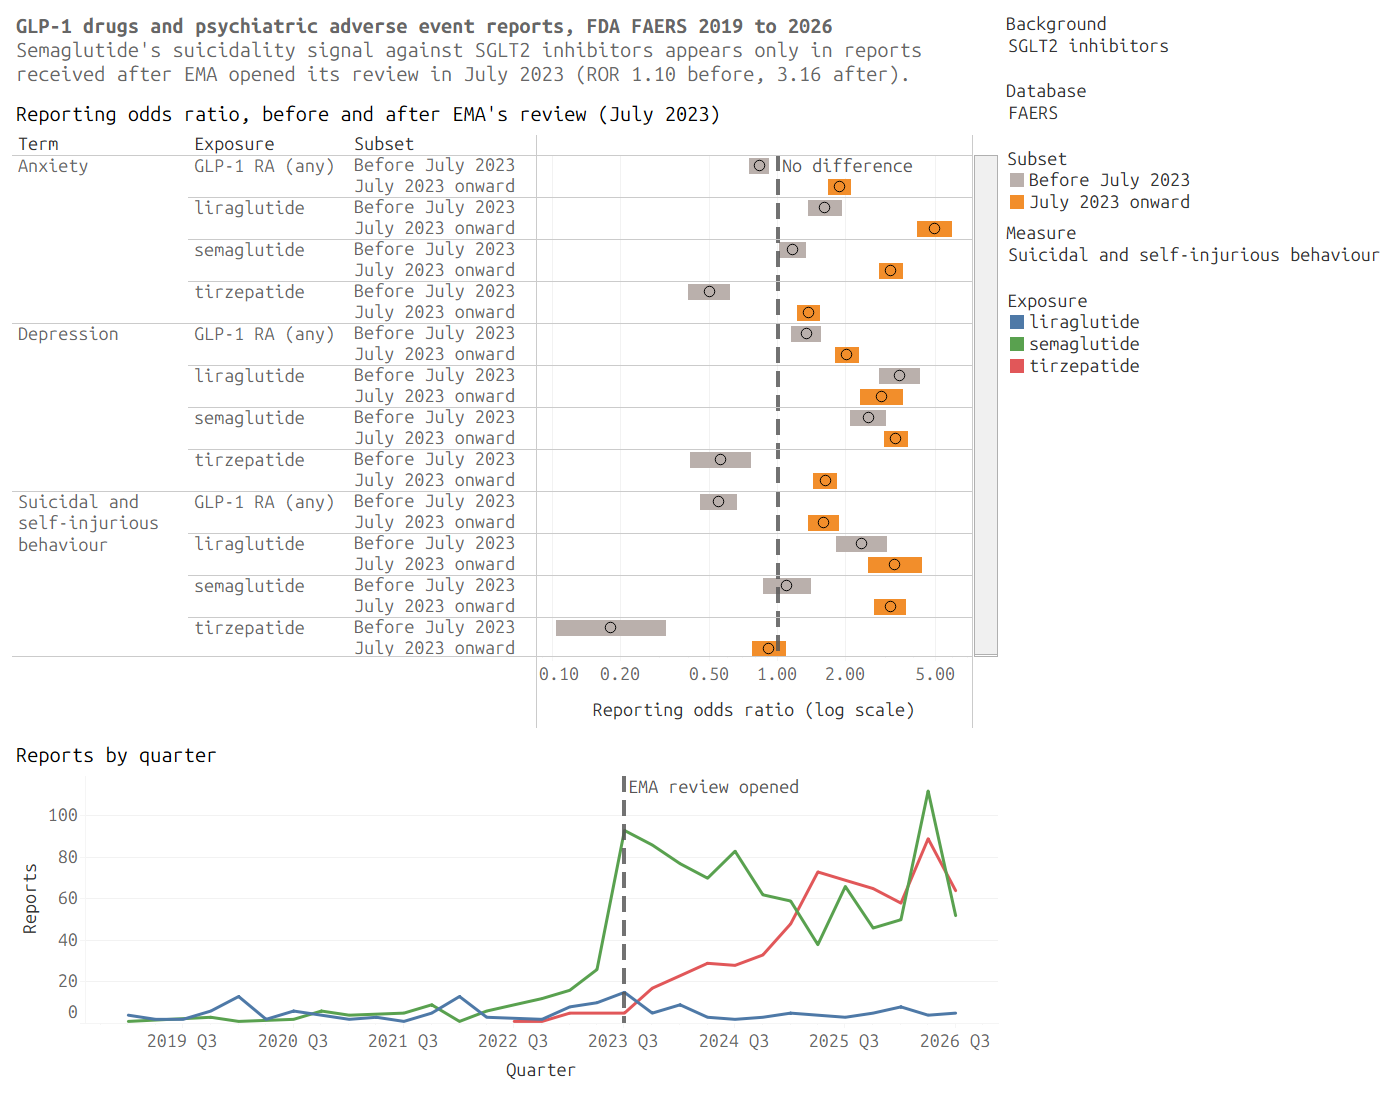

The dashboard page shown, as its layout file describes it:
{"tool":"tableau","page":{"name":"GLP-1 psychiatric signals","canvas":[1400,1100],"ordinal":0},"visuals":[{"type":"text","box":[8,8,1187,84]},{"type":"filter","title":"Before and after","param":"[federated.1qhq31e10xu5c41e6xd1d1pdsw35].[none:background:nk]","box":[1195,8,197,67]},{"type":"filter","title":"Before and after","param":"[federated.1qhq31e10xu5c41e6xd1d1pdsw35].[none:database:nk]","box":[1195,75,197,67]},{"type":"worksheet","title":"Before and after","mark":"GanttBar","rows":["term","exposure","period"],"cols":["ror_lo","ror"],"box":[8,92,1187,641]},{"type":"legend","title":"Before and after","param":"[federated.1qhq31e10xu5c41e6xd1d1pdsw35].[none:period:nk]","box":[1195,142,197,75]},{"type":"filter","title":"Reports per quarter","param":"[federated.0y1i65216ovb9414ffqay0pqj22x].[none:measure:nk]","box":[1195,217,197,67]},{"type":"legend","title":"Reports per quarter","param":"[federated.0y1i65216ovb9414ffqay0pqj22x].[none:exposure:nk]","box":[1195,284,197,97]},{"type":"worksheet","title":"Reports per quarter","mark":"Line","rows":["reports"],"cols":["Calculation_2085837943255040"],"box":[8,733,1187,359]}]}

Visuals, with their boxes in screenshot pixels (x1, y1, x2, y2), scaled from the page's 1400x1100 canvas onto the 1400x1100 screenshot:
text: 8:8:1195:92
"Before and after" filter: 1195:8:1392:75
"Before and after" filter: 1195:75:1392:142
"Before and after" worksheet (GanttBar marks): 8:92:1195:733
"Before and after" legend: 1195:142:1392:217
"Reports per quarter" filter: 1195:217:1392:284
"Reports per quarter" legend: 1195:284:1392:381
"Reports per quarter" worksheet (Line marks): 8:733:1195:1092
